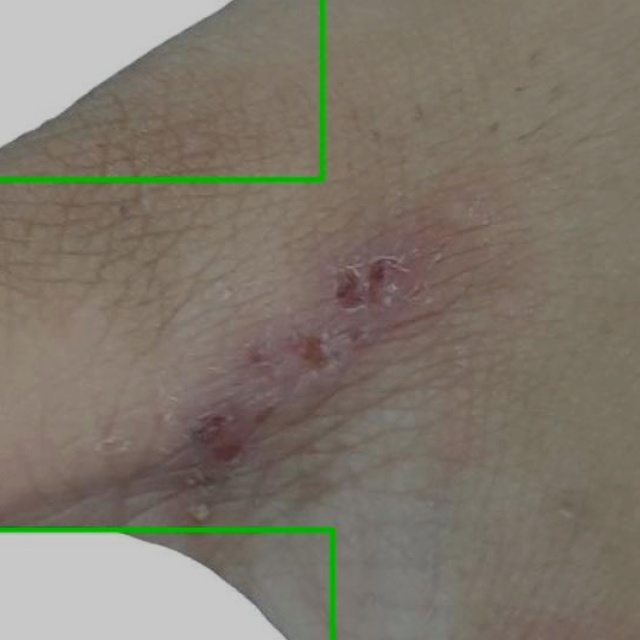Scabies: (0, 0, 322, 179)
